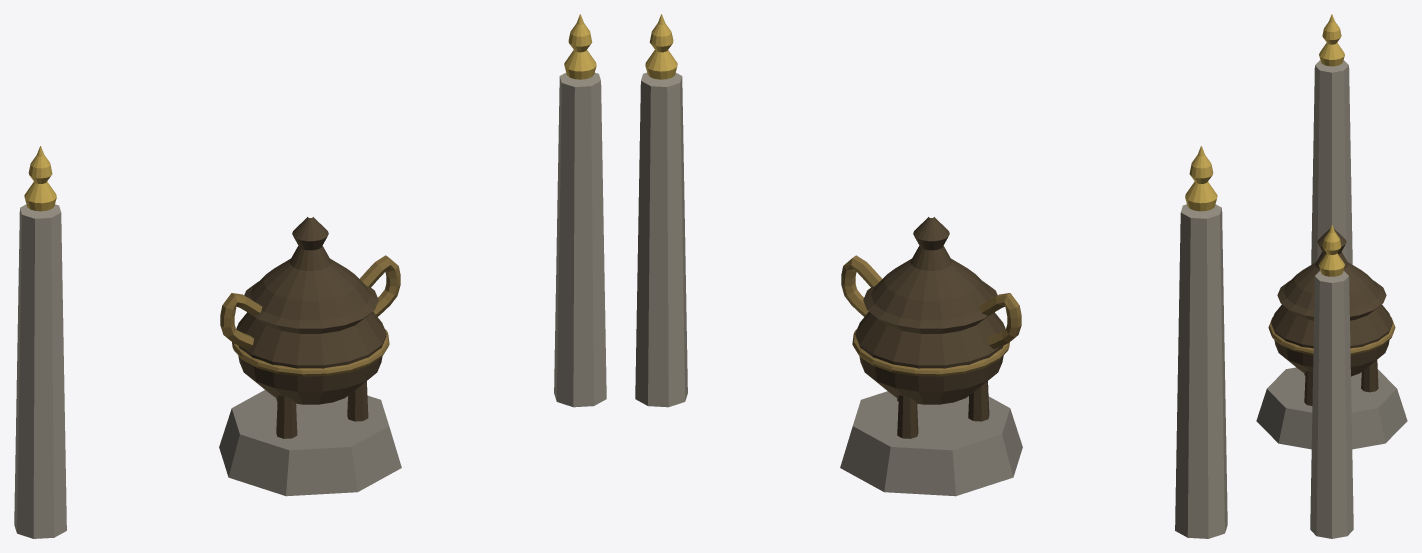
Rendered from kinhthanh-hero.glb.
The picture shows the model from 3 angles, left to right: view 1: azimuth 30°, elevation 25°; view 2: azimuth 150°, elevation 25°; view 3: azimuth 270°, elevation 25°; orthographic projection. The views are drawn at different scales.
Visible parts, largest first — view 1: kinhthanh_hero_ornaments; view 2: kinhthanh_hero_ornaments; view 3: kinhthanh_hero_ornaments.
Part boxes in pixels (x1=…): kinhthanh_hero_ornaments: x1=14, y1=14, x2=606, y2=538; kinhthanh_hero_ornaments: x1=635, y1=14, x2=1227, y2=538; kinhthanh_hero_ornaments: x1=1256, y1=14, x2=1407, y2=538.
Bounding box in the file's own units: 6.96 × 4.33 × 1.94.
